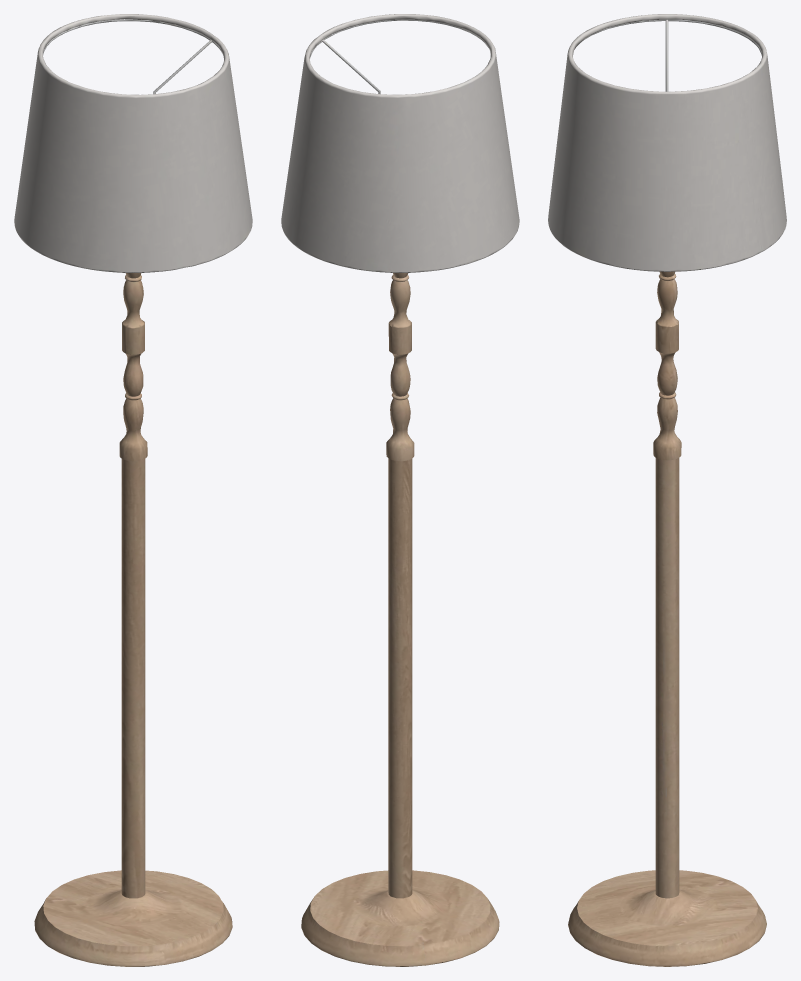
3 renders of one model, left to right at view 1: azimuth 30°, elevation 25°; view 2: azimuth 150°, elevation 25°; view 3: azimuth 270°, elevation 25°, orthographic.
Parts seen in each view (by area): view 1: Mesh_0; view 2: Mesh_0; view 3: Mesh_0.
Boxes of the visible parts, box(x1,y1,x2,y2) form: Mesh_0: box(14, 14, 252, 966); Mesh_0: box(281, 14, 519, 966); Mesh_0: box(548, 14, 786, 966).
Bounding box in the file's own units: 0.3725 × 1.5 × 0.3721.
1 material, 1 textured.
